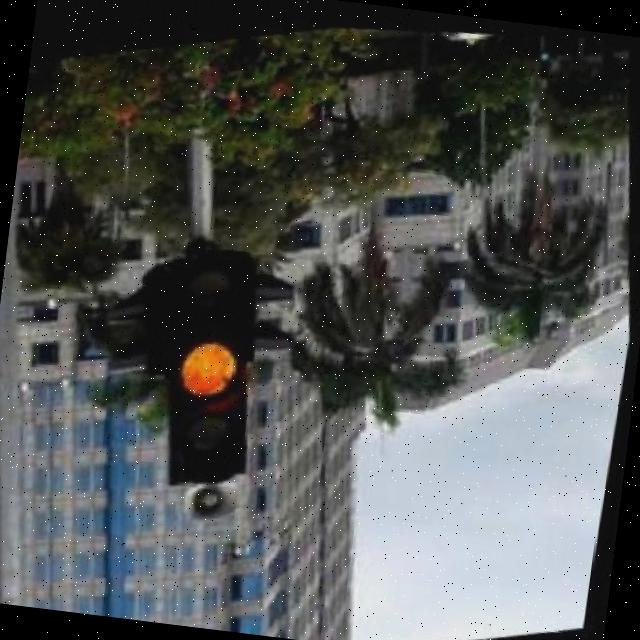yellow_light: (86, 248, 331, 535)
